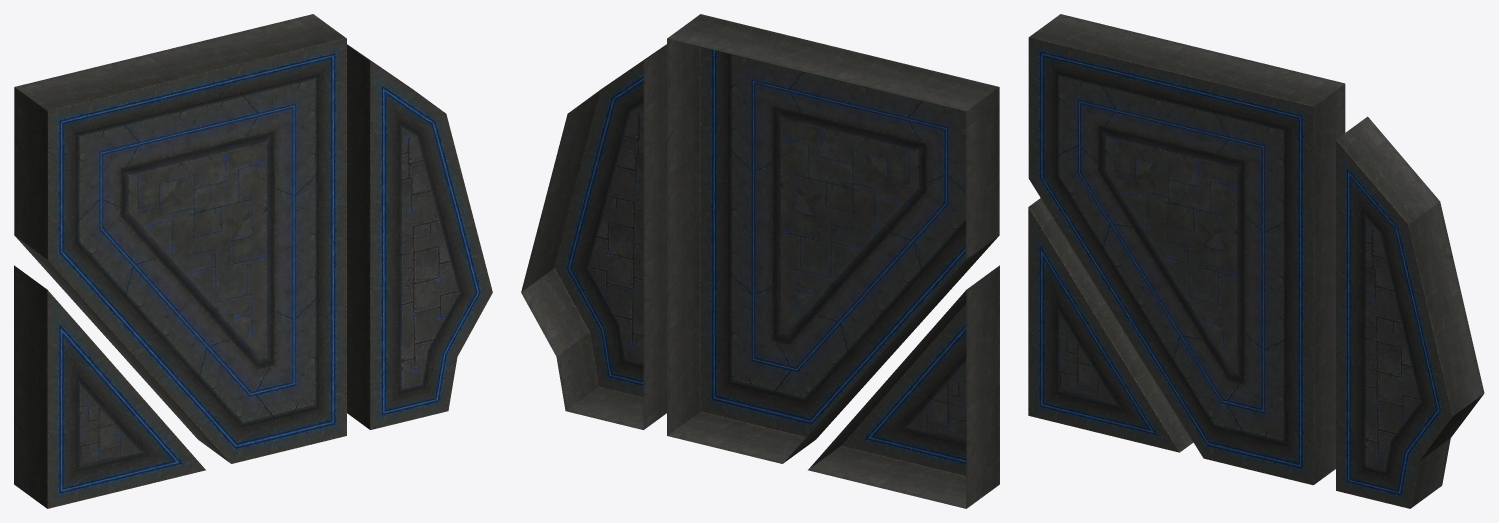
The model's file is mingjie_yewai_351_dimian_05.obj.
The picture shows the model from 3 angles, left to right: view 1: azimuth 30°, elevation 25°; view 2: azimuth 150°, elevation 25°; view 3: azimuth 330°, elevation 25°; orthographic projection. The views are drawn at different scales.
Parts seen in each view (by area): view 1: mingjie_yewai_351_dimian_05; view 2: mingjie_yewai_351_dimian_05; view 3: mingjie_yewai_351_dimian_05.
Part boxes in pixels (x1,y1,x2,y2): mingjie_yewai_351_dimian_05: (14, 14, 492, 508); mingjie_yewai_351_dimian_05: (521, 14, 999, 508); mingjie_yewai_351_dimian_05: (1028, 14, 1484, 508).
Bounding box in the file's own units: 1247 × 1063 × 162.
2 materials, 2 textured.
